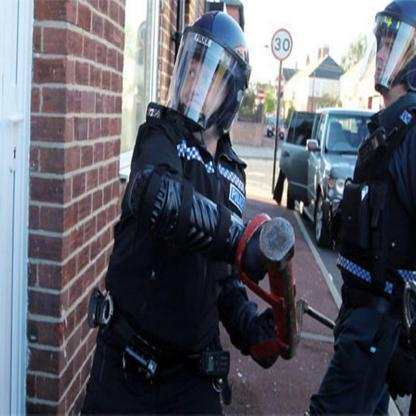face: (181, 35, 228, 123), (377, 13, 414, 90)
